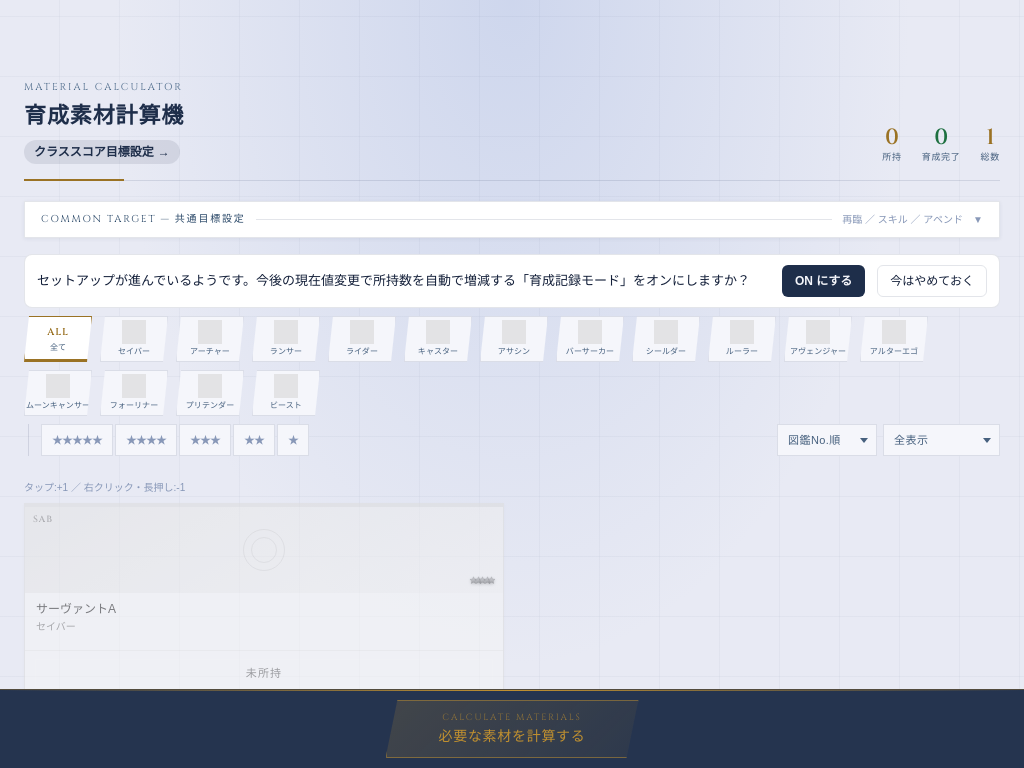
Test: Index - tracking-mode suggestion banner › "今はやめておく" dismisses the banner without enabling tracking mode
Check: the text "セットアップが進んでいるようです。今後の現在値変更で所持数を自動で増減する「育成記録モード」をオンにしますか？" is shown, box x1=37 y1=271 x2=770 y2=291
Click the button "今はやめておく" at {"x": 932, "y": 281}, box x1=877 y1=265 x2=987 y2=297
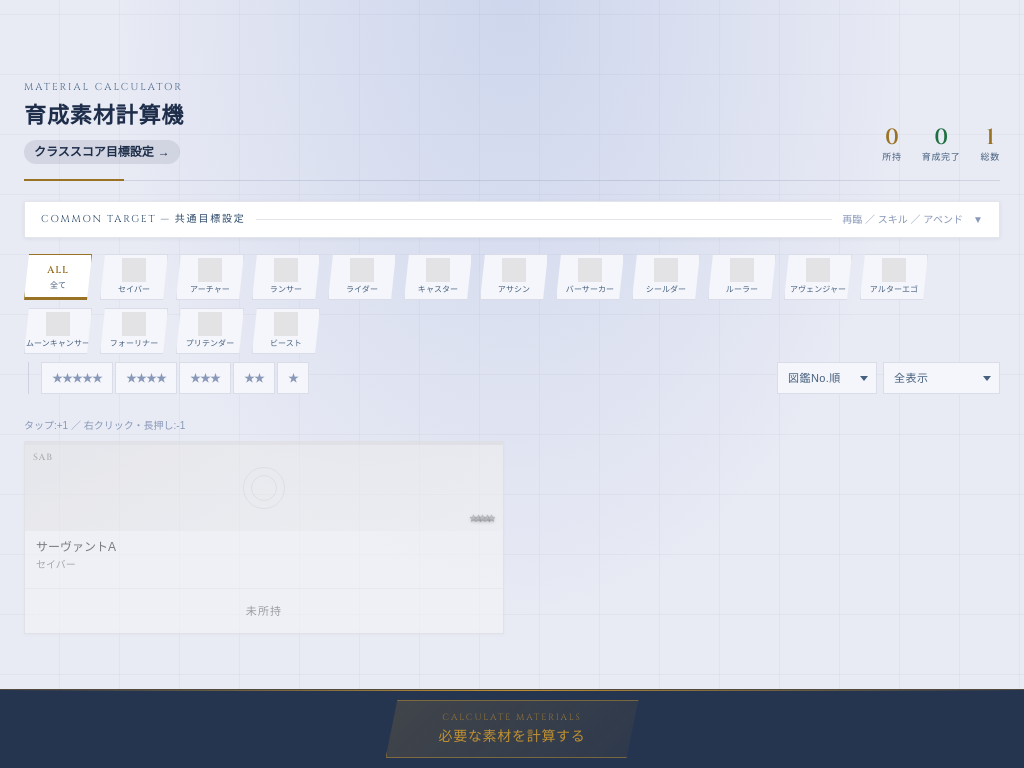
Check: the text "セットアップが進んでいるようです。今後の現在値変更で所持数を自動で増減する「育成記録モード」をオンにしますか？" is gone
